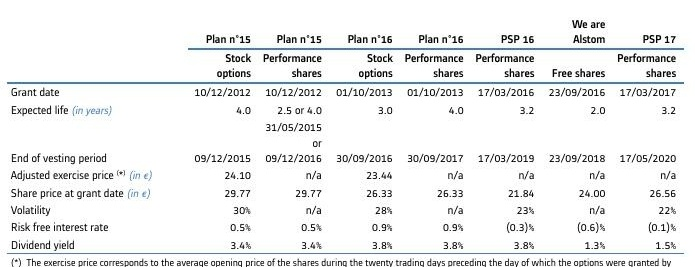table: (0, 0, 695, 267)
